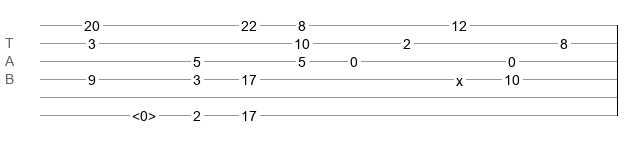0: (350, 54, 358, 64), (508, 54, 516, 64)
10: (294, 36, 310, 46), (504, 72, 520, 82)
12: (451, 18, 467, 28)
17: (241, 72, 257, 82), (241, 108, 257, 118)
2: (193, 108, 201, 118), (403, 36, 411, 46)
20: (84, 18, 100, 28)
22: (241, 18, 257, 28)
3: (88, 36, 96, 46), (193, 72, 201, 82)
5: (193, 54, 201, 64), (298, 54, 306, 64)
8: (298, 18, 306, 28), (560, 36, 568, 46)
9: (88, 72, 96, 82)
harmonic: (132, 108, 156, 118)
x: (456, 73, 463, 81)
